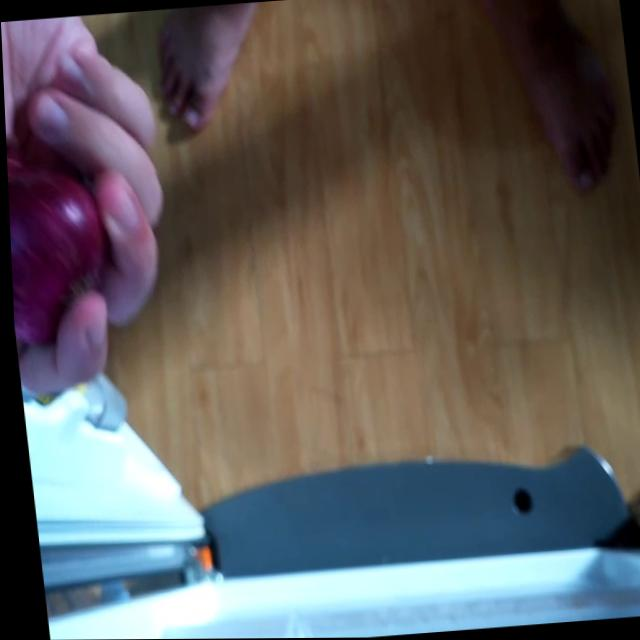onion: (5, 130, 109, 357)
